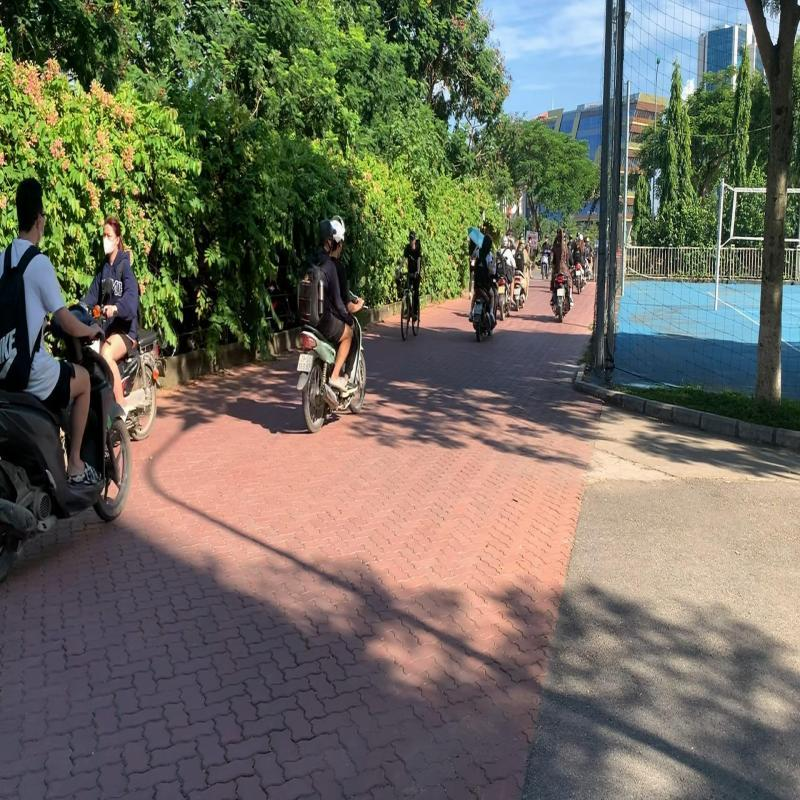nohelmet: (12, 174, 50, 247)
